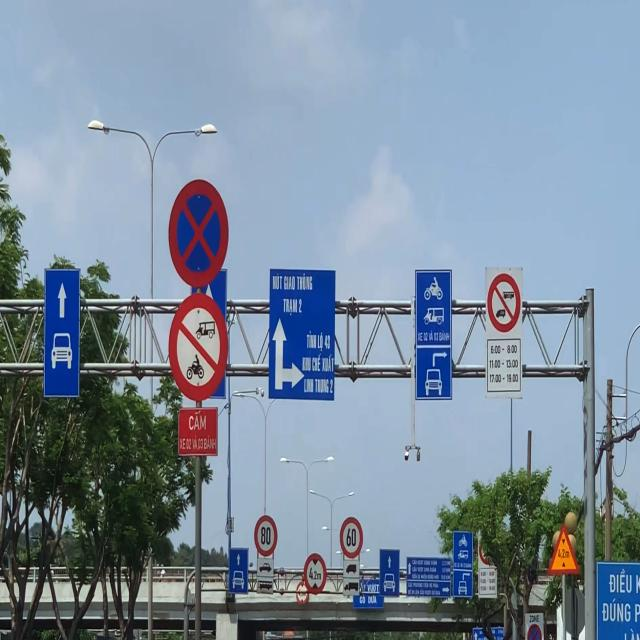Cam con lai: (168, 294, 228, 400), (487, 273, 522, 334)
Cam dung va do: (167, 173, 230, 292)
Chieu cao toi da: (302, 551, 328, 597)
Nguy hiem: (544, 521, 583, 580)
Toc do toi da: (254, 513, 278, 558), (340, 515, 362, 559)
